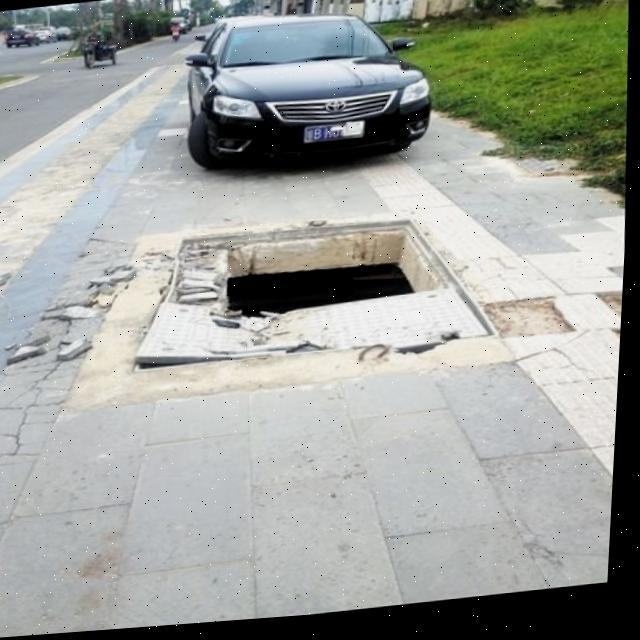manhole: (135, 205, 503, 390)
